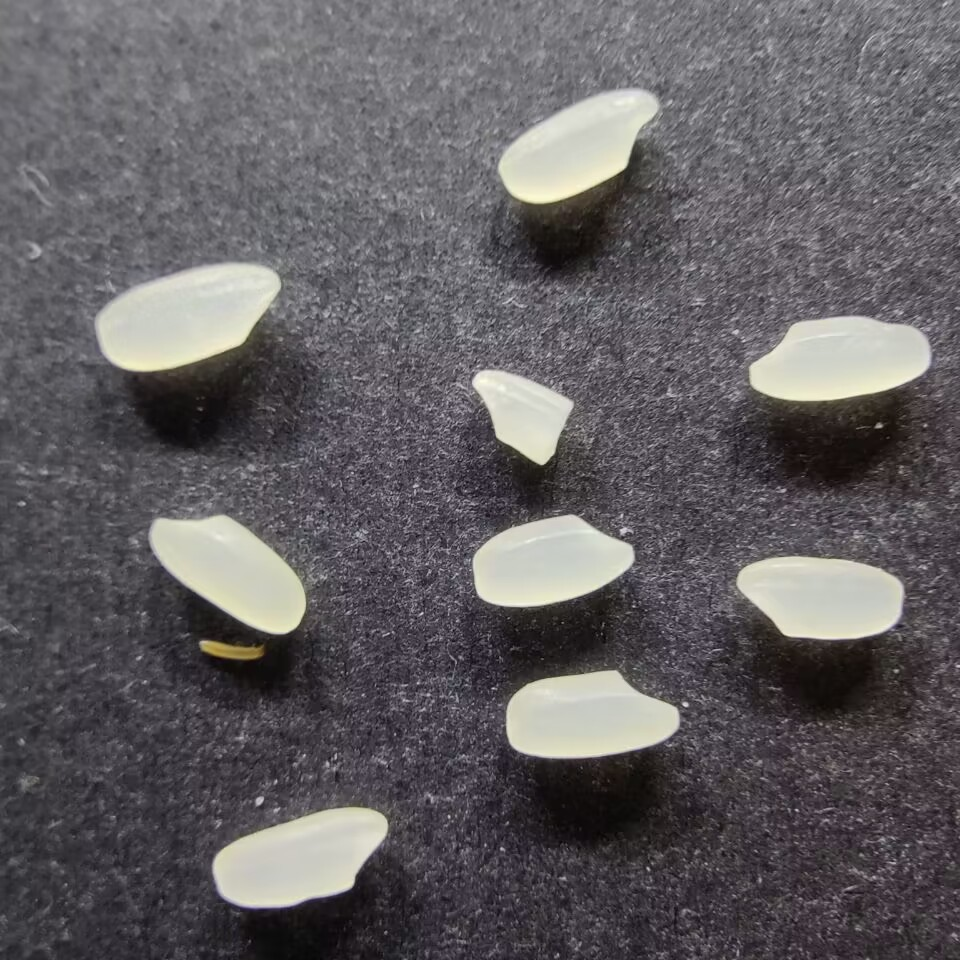broken: (469, 366, 575, 467)
others: (196, 635, 270, 664)
rice: (93, 260, 280, 373), (147, 513, 309, 636), (497, 88, 659, 205), (210, 805, 388, 910), (747, 314, 931, 402), (504, 669, 682, 759), (471, 513, 635, 608), (734, 554, 905, 641)
